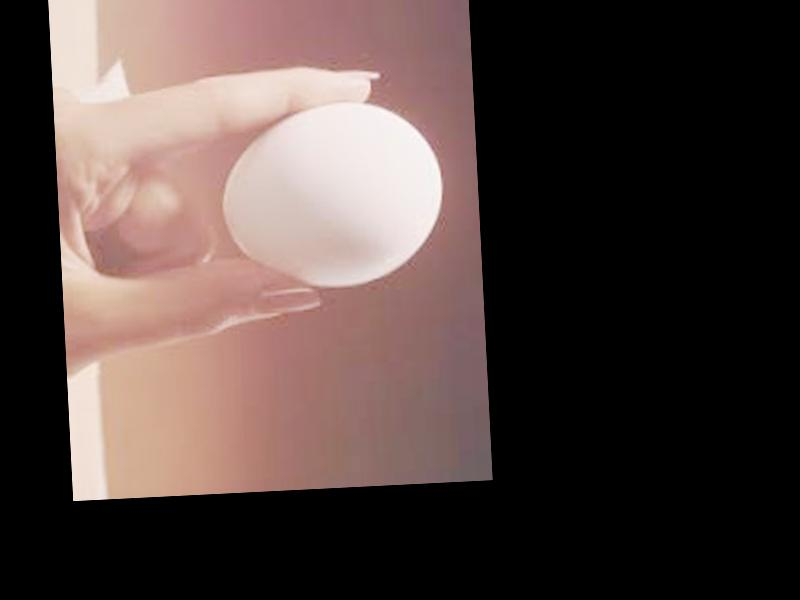Eggs: (215, 98, 445, 295)
